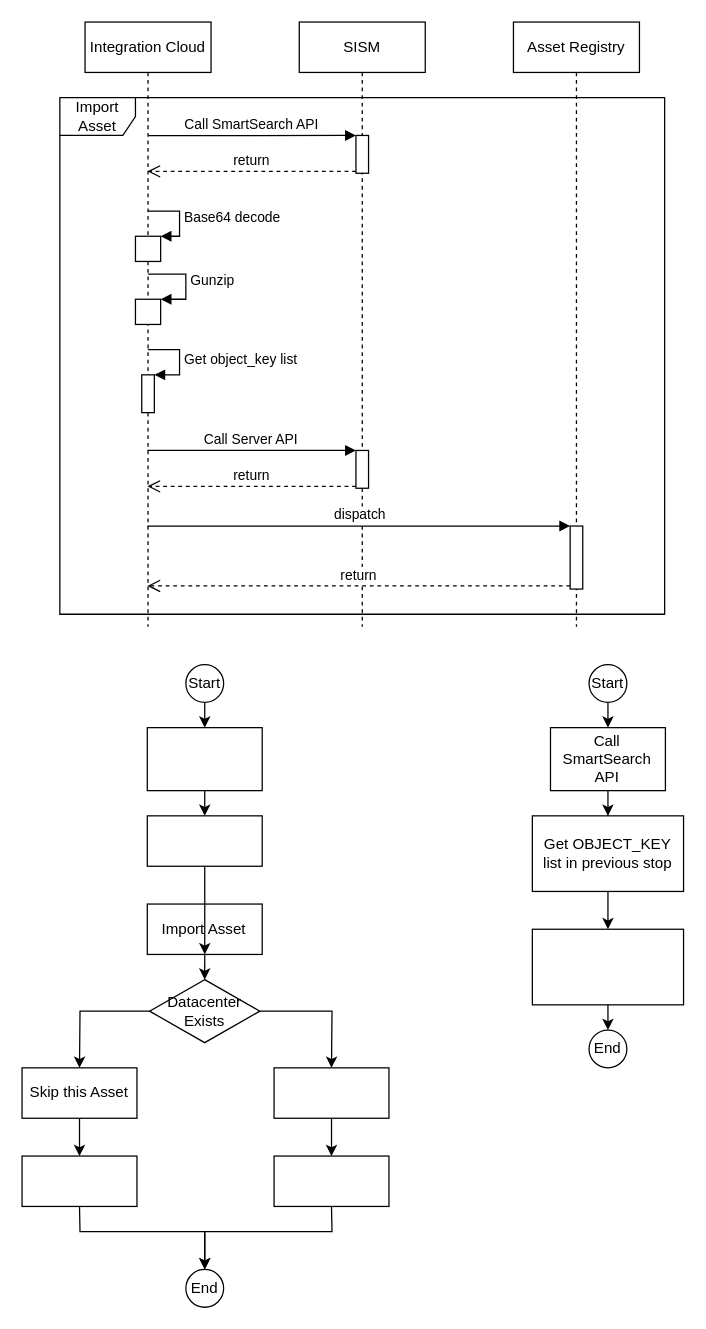
Image size: 706x1329. Some labels were removed from this diagram. Each missing label, with the centre of its shape:
"Assign Datacenter to imported Asset" belongs at point 331,1180.
"Call Asset Registry Standard API to import/update Asset" belongs at point 607,966.
"Import Asset Information" belongs at point 331,1092.
"Import Datacenter" belongs at point 204,840.
"Maintenance the subtype information" belongs at point 204,758.
"Report issue" belongs at point 79,1180.
